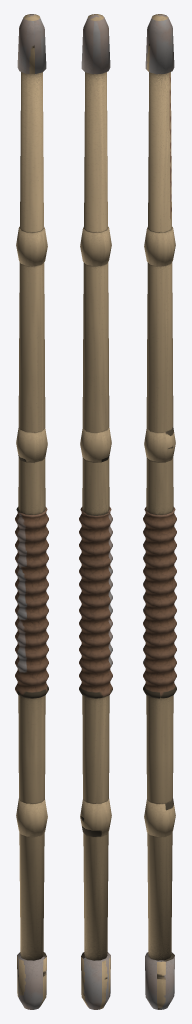
File: quarterstaff.glb
3 views of the same model, side by side, from view 1: azimuth 30°, elevation 25°; view 2: azimuth 150°, elevation 25°; view 3: azimuth 330°, elevation 25° (orthographic).
Visible parts, largest first — view 1: quarterstaff; view 2: quarterstaff; view 3: quarterstaff.
Boxes of the visible parts, x1,y1,x2,y2 form: quarterstaff: [15, 14, 48, 1009]; quarterstaff: [79, 14, 112, 1009]; quarterstaff: [143, 14, 176, 1009].
Size of the model in its own units: 0.1207 by 3.92 by 0.1207.
Materials: 1 (1 with a texture image).
